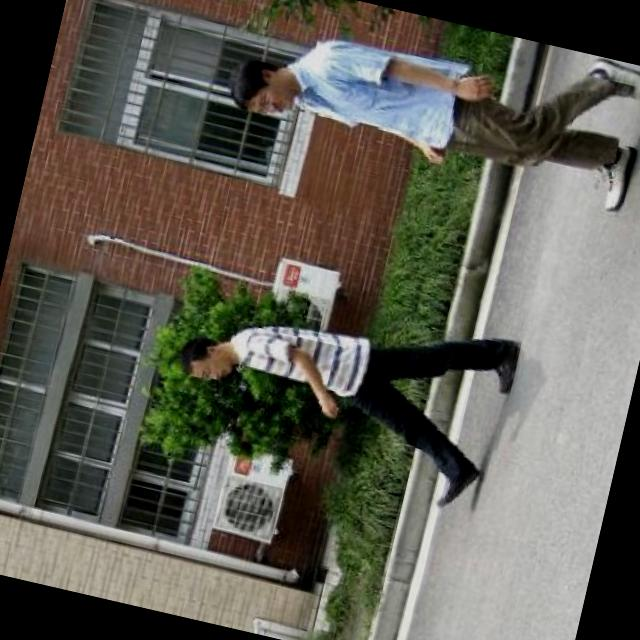Person: (215, 0, 640, 226), (156, 262, 528, 516)
